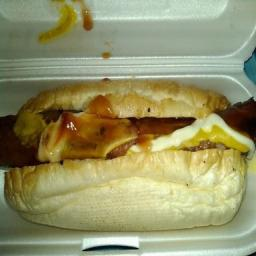hotdog: (0, 109, 254, 164)
